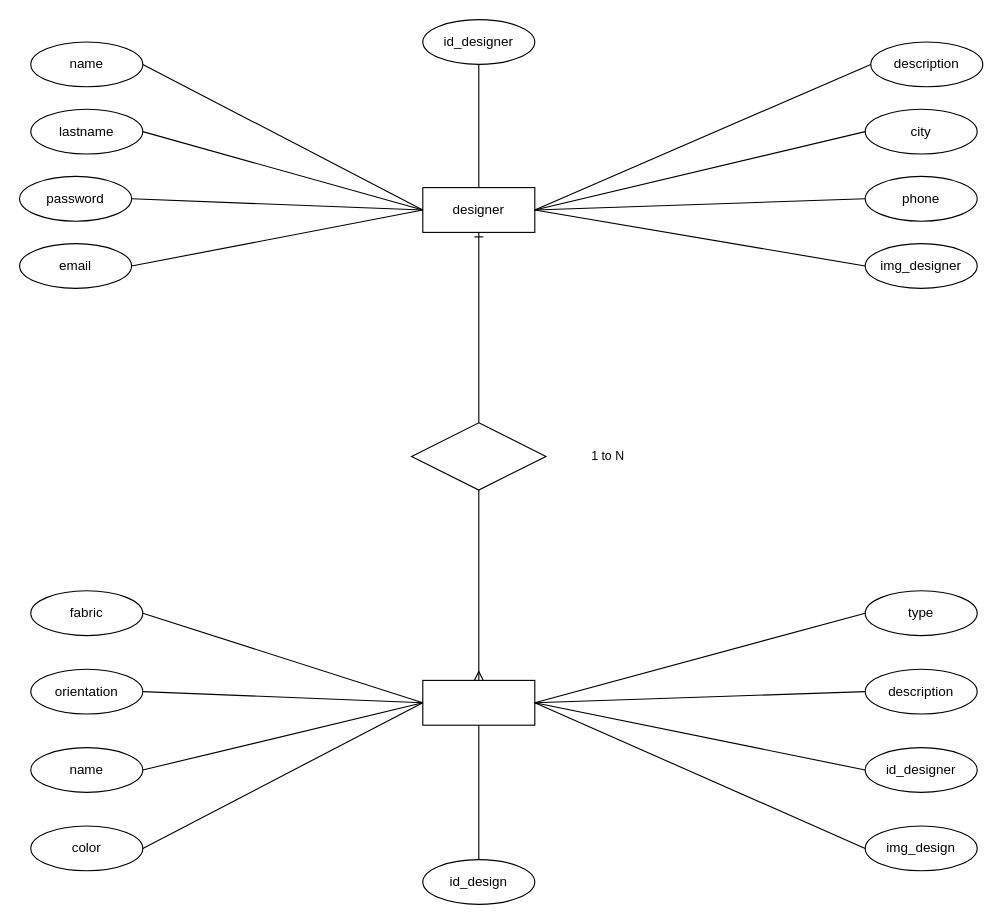
The diagram is 1002 pixels wide and 924 high, and some of its shapes have lost their labels. Each missing label, with the box of its shape:
design: (422, 679, 535, 725)
has: (410, 422, 546, 490)
